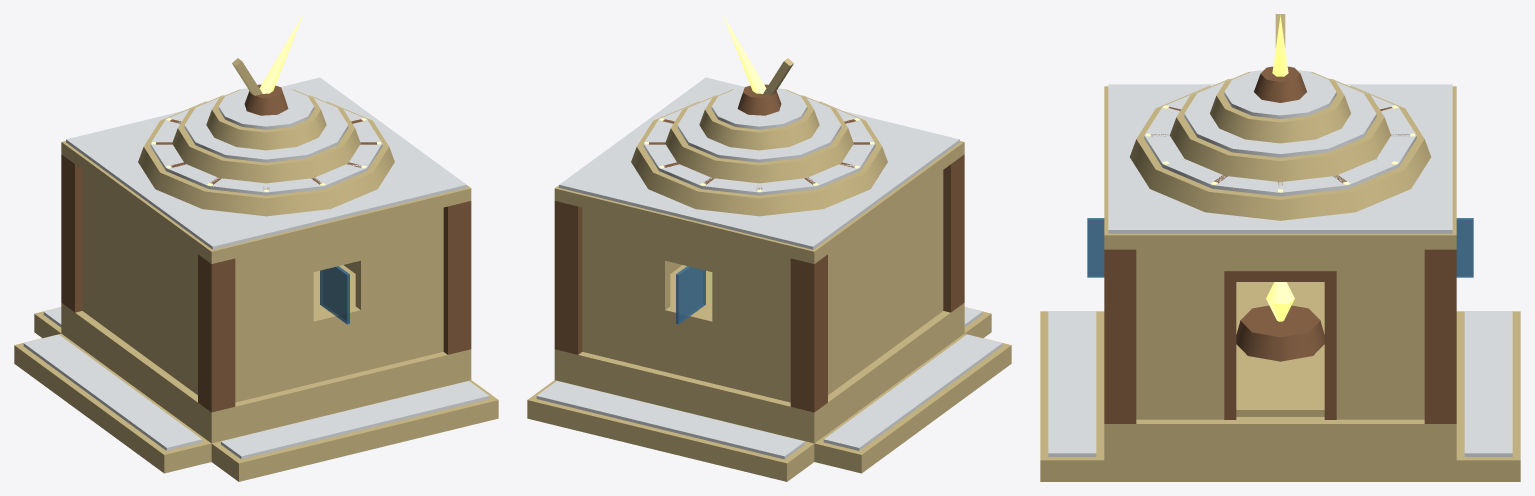
Rendered from shrine-snow-dial.glb.
The picture shows the model from 3 angles, left to right: view 1: azimuth 30°, elevation 25°; view 2: azimuth 150°, elevation 25°; view 3: azimuth 270°, elevation 25°; orthographic projection. The views are drawn at different scales.
Parts seen in each view (by area): view 1: Mesh_ShrineRoom_WallBack, Mesh_Foundation, Mesh_RoofSlabSnow, Mesh_ShrineRoom_WallRight_R, Mesh_ShrineRoom_WallRight_L, Mesh_TerraceR1, Mesh_DialTier1, Mesh_RoofSlab, Mesh_TerraceR1Snow, Mesh_ButtressBL, Mesh_TerraceB1Snow, Mesh_TerraceB1 (+16 smaller); view 2: Mesh_ShrineRoom_WallBack, Mesh_Foundation, Mesh_RoofSlabSnow, Mesh_ShrineRoom_WallLeft_R, Mesh_ShrineRoom_WallLeft_L, Mesh_TerraceL1, Mesh_DialTier1, Mesh_RoofSlab, Mesh_TerraceL1Snow, Mesh_ButtressBR, Mesh_TerraceB1Snow, Mesh_TerraceB1 (+16 smaller); view 3: Mesh_Foundation, Mesh_RoofSlabSnow, Mesh_ShrineRoom_WallFront_R, Mesh_ShrineRoom_WallFront_L, Mesh_DialTier1, Mesh_ShrineRoom_Floor, Mesh_RoofSlab, Mesh_TerraceL1Snow, Mesh_TerraceR1Snow, Mesh_DialTier1Snow, Mesh_DialTier2, Mesh_ButtressFL (+17 smaller).
Part boxes in pixels (bbox=[...]): Mesh_ShrineRoom_WallBack: bbox=[82, 170, 197, 394]; Mesh_Foundation: bbox=[61, 303, 471, 443]; Mesh_RoofSlabSnow: bbox=[66, 77, 466, 249]; Mesh_ShrineRoom_WallRight_R: bbox=[355, 207, 443, 371]; Mesh_ShrineRoom_WallRight_L: bbox=[235, 239, 313, 402]; Mesh_TerraceR1: bbox=[211, 380, 498, 481]; Mesh_DialTier1: bbox=[138, 101, 394, 216]; Mesh_RoofSlab: bbox=[61, 141, 471, 263]; Mesh_TerraceR1Snow: bbox=[221, 381, 489, 459]; Mesh_ButtressBL: bbox=[198, 254, 235, 412]; Mesh_TerraceB1Snow: bbox=[23, 334, 202, 450]; Mesh_TerraceB1: bbox=[14, 333, 211, 473]; Mesh_ShrineRoom_WallBack: bbox=[828, 170, 943, 394]; Mesh_Foundation: bbox=[554, 303, 964, 442]; Mesh_RoofSlabSnow: bbox=[559, 77, 959, 249]; Mesh_ShrineRoom_WallLeft_R: bbox=[582, 207, 670, 371]; Mesh_ShrineRoom_WallLeft_L: bbox=[712, 239, 790, 402]; Mesh_TerraceL1: bbox=[527, 380, 814, 481]; Mesh_DialTier1: bbox=[631, 101, 887, 216]; Mesh_RoofSlab: bbox=[554, 141, 964, 263]; Mesh_TerraceL1Snow: bbox=[536, 381, 804, 459]; Mesh_ButtressBR: bbox=[790, 254, 827, 412]; Mesh_TerraceB1Snow: bbox=[823, 334, 1002, 450]; Mesh_TerraceB1: bbox=[814, 333, 1011, 473]; Mesh_Foundation: bbox=[1104, 417, 1456, 481]; Mesh_RoofSlabSnow: bbox=[1108, 84, 1452, 233]; Mesh_ShrineRoom_WallFront_R: bbox=[1136, 249, 1236, 419]; Mesh_ShrineRoom_WallFront_L: bbox=[1324, 249, 1424, 419]; Mesh_DialTier1: bbox=[1130, 86, 1430, 220]; Mesh_ShrineRoom_Floor: bbox=[1236, 282, 1324, 416]; Mesh_RoofSlab: bbox=[1104, 86, 1456, 249]; Mesh_TerraceL1Snow: bbox=[1464, 311, 1512, 456]; Mesh_TerraceR1Snow: bbox=[1048, 311, 1096, 456]; Mesh_DialTier1Snow: bbox=[1144, 86, 1416, 196]; Mesh_DialTier2: bbox=[1169, 79, 1391, 181]; Mesh_ButtressFL: bbox=[1104, 249, 1136, 423].
Bounding box in the file's own units: 5.2 × 5.7 × 6.
3 materials, 3 textured.
